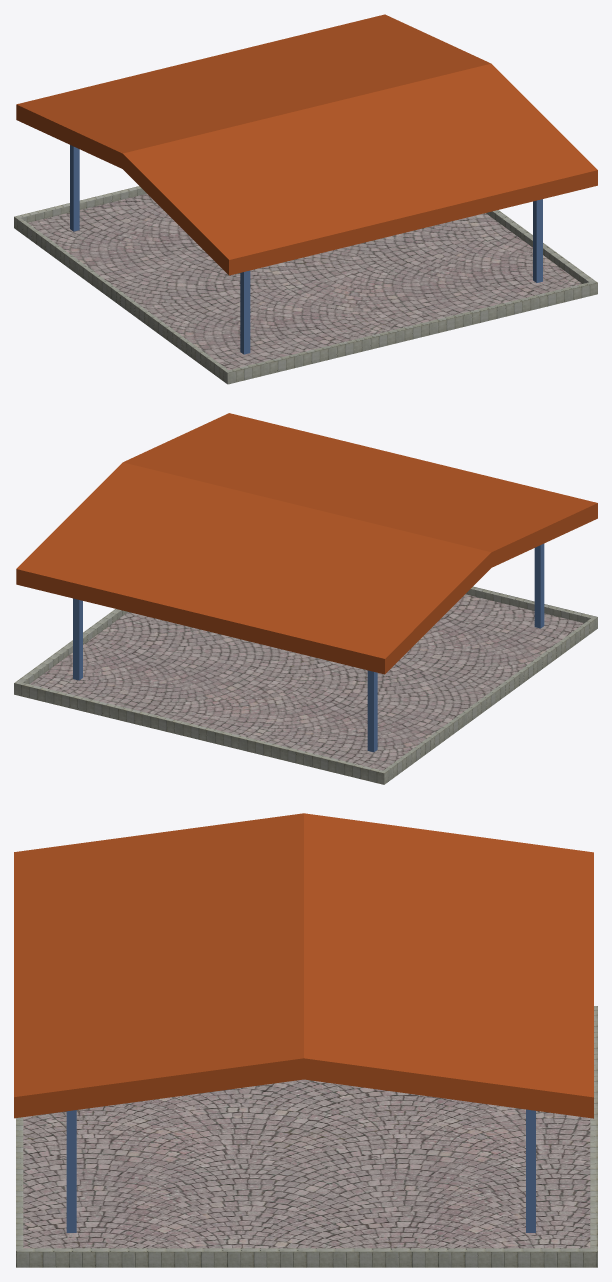
Rendered from sayehban.fbx.
3 renders of one model, top to bottom at view 1: azimuth 30°, elevation 25°; view 2: azimuth 150°, elevation 25°; view 3: azimuth 270°, elevation 25°, orthographic. The views are drawn at different scales.
Parts seen in each view (by area): view 1: Plane; view 2: Plane; view 3: Plane.
Boxes of the visible parts, x1,y1,x2,y2 form: Plane: (14, 14, 597, 384); Plane: (14, 413, 597, 784); Plane: (14, 813, 597, 1267).
Bounding box in the file's own units: 1272 × 1268 × 502.
